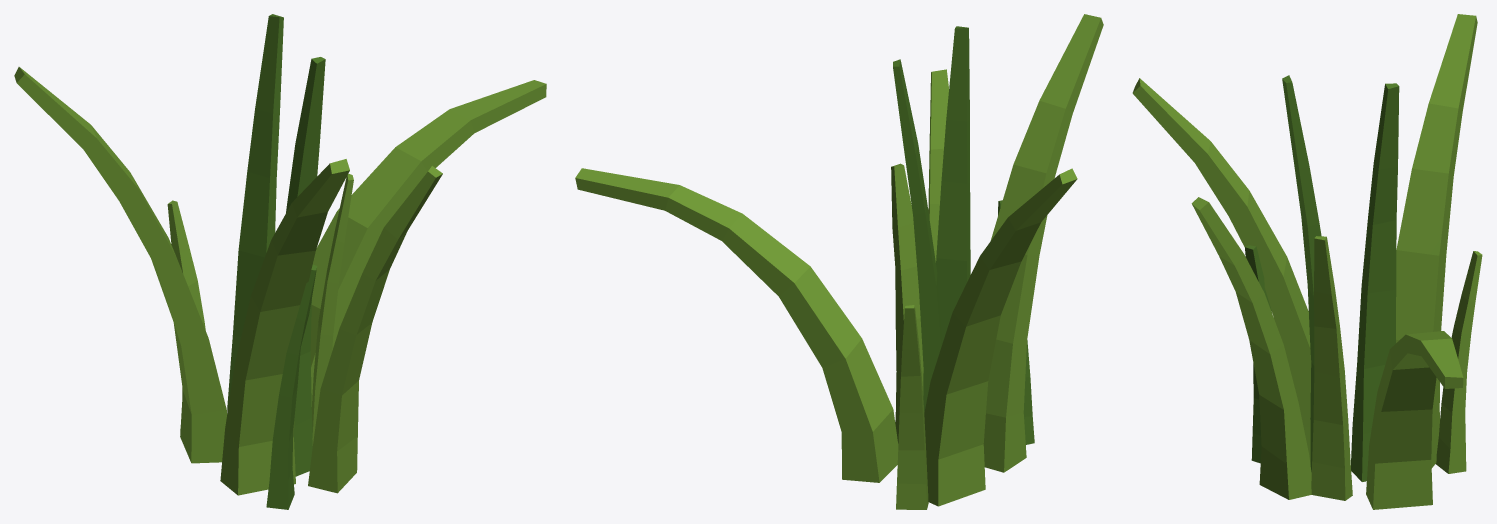
File: Grass003.gltf
The picture shows the model from 3 angles, left to right: view 1: azimuth 30°, elevation 25°; view 2: azimuth 150°, elevation 25°; view 3: azimuth 270°, elevation 25°; orthographic projection. The views are drawn at different scales.
Visible parts, largest first — view 1: Grass003; view 2: Grass003; view 3: Grass003.
Boxes of the visible parts, x1=… form: Grass003: x1=14, y1=14, x2=546, y2=509; Grass003: x1=575, y1=14, x2=1103, y2=509; Grass003: x1=1132, y1=14, x2=1482, y2=509.
Bounding box in the file's own units: 0.3365 × 0.2635 × 0.2056.
